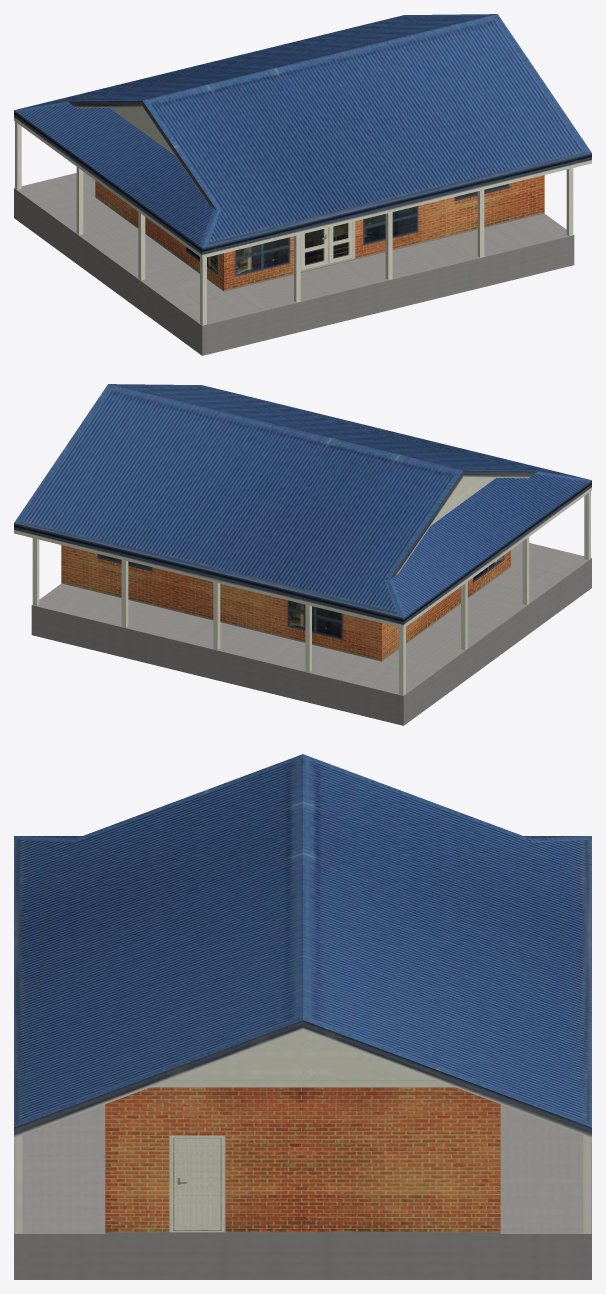
File: terminal-small-07-13x11-cbj_LOD00.gltf
The picture shows the model from 3 angles, top to bottom: view 1: azimuth 30°, elevation 25°; view 2: azimuth 150°, elevation 25°; view 3: azimuth 270°, elevation 25°; orthographic projection. The views are drawn at different scales.
Parts seen in each view (by area): view 1: Sketchup; view 2: Sketchup; view 3: Sketchup.
Part boxes in pixels (x1,y1,x2,y2): Sketchup: (14,14,591,355); Sketchup: (14,384,591,725); Sketchup: (14,754,591,1279).
Bounding box in the file's own units: 13.62 × 5.94 × 11.4.
